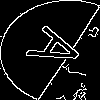A: (25, 25, 99, 77)
